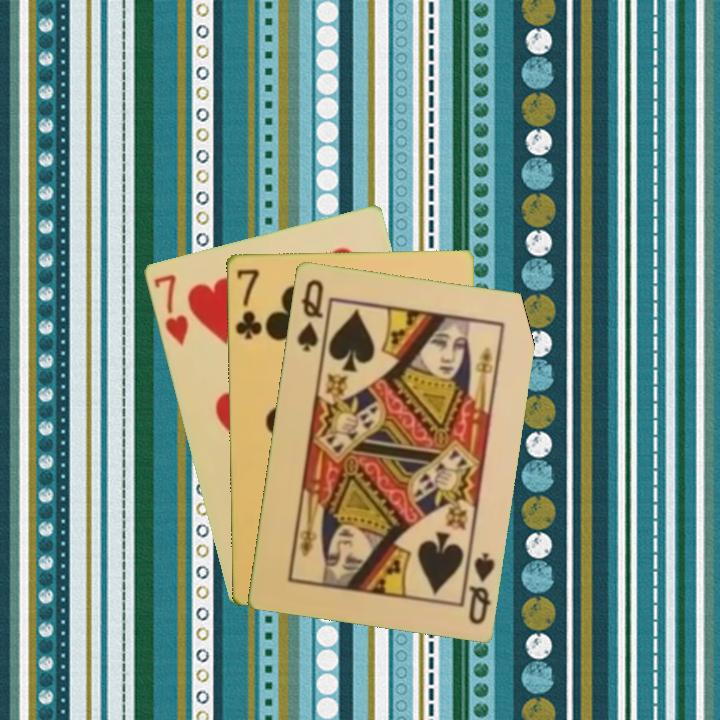7c: (231, 265, 265, 342)
7h: (150, 270, 191, 349)
Qs: (293, 275, 326, 354), (464, 548, 497, 627)
